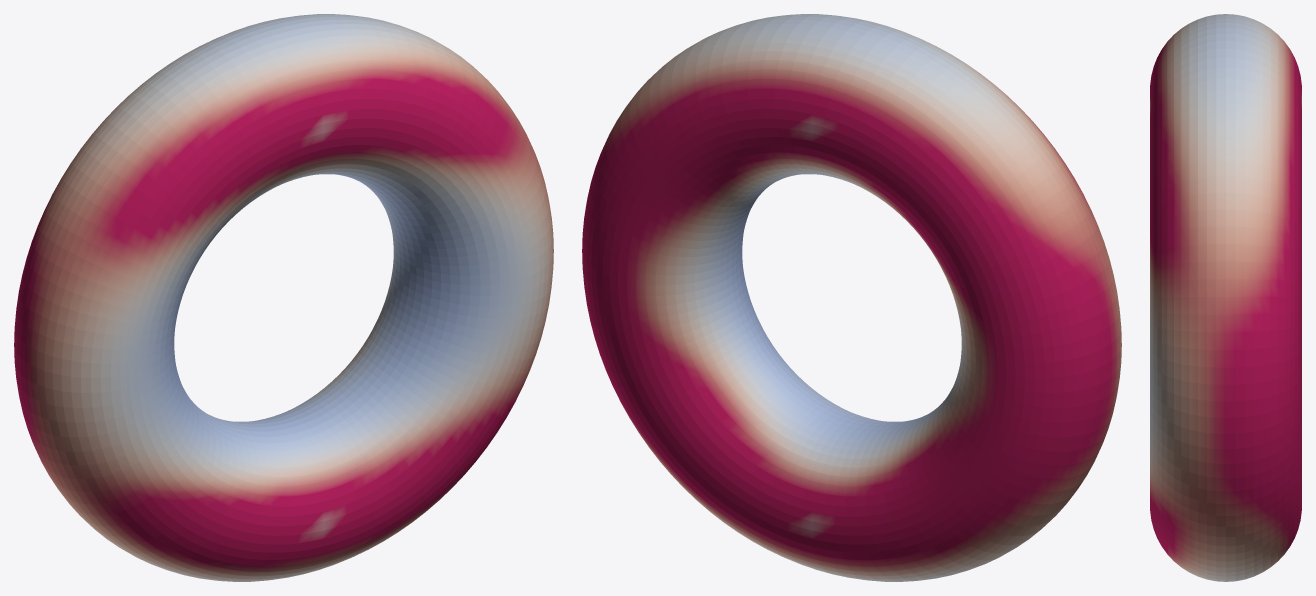
3 views of the same model, side by side, from view 1: azimuth 30°, elevation 25°; view 2: azimuth 150°, elevation 25°; view 3: azimuth 270°, elevation 25° (orthographic). The views are drawn at different scales.
Visible parts, largest first — view 1: world; view 2: world; view 3: world.
Part boxes in pixels (bbox=[...]): world: bbox=[14, 14, 553, 581]; world: bbox=[582, 14, 1121, 581]; world: bbox=[1150, 14, 1301, 581].
Size of the model in its own units: 26.4 by 26.4 by 7.05.
